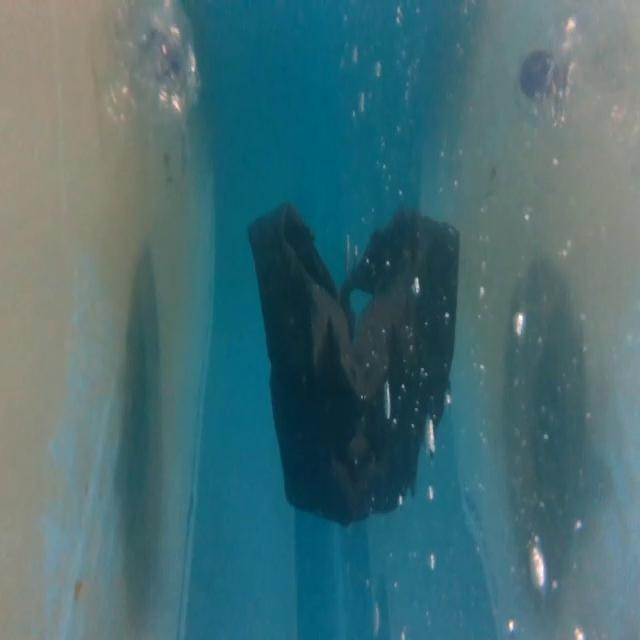plastic bags: (242, 198, 464, 534)
